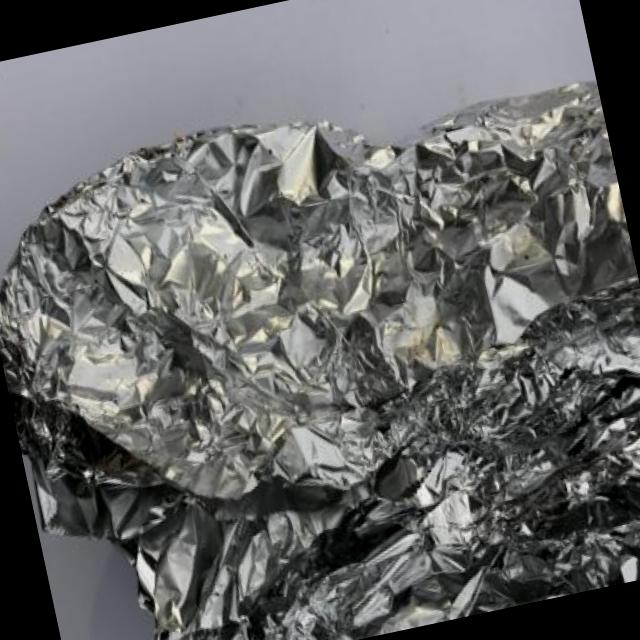kim_loai: (0, 79, 640, 640)
